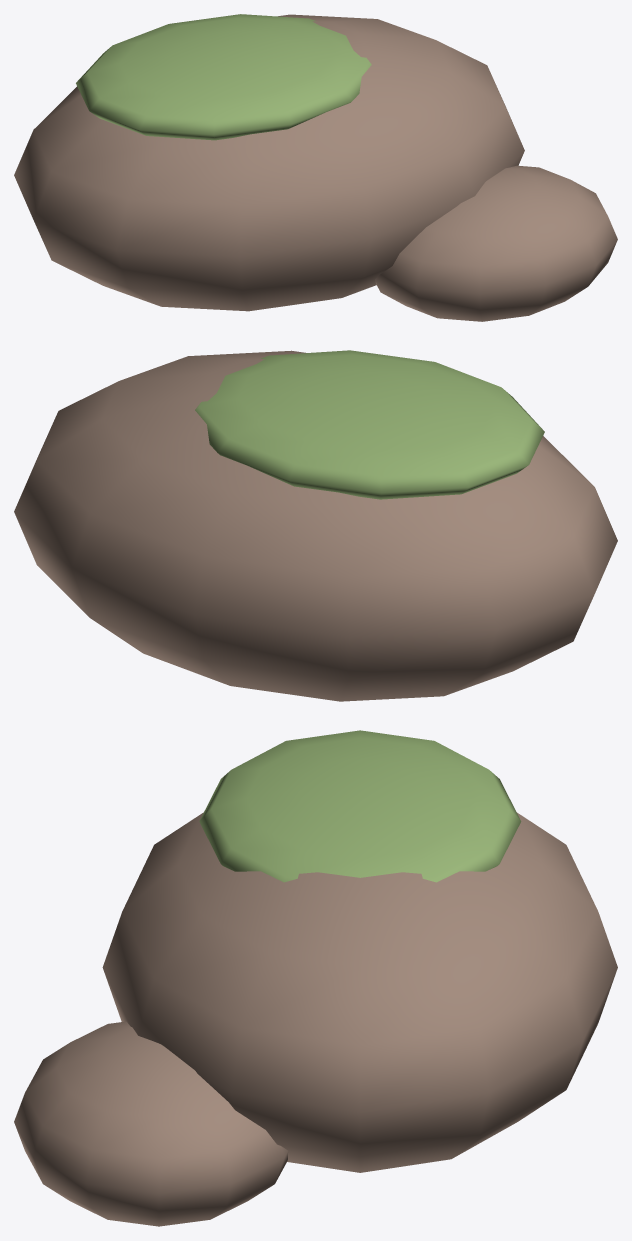
File: lost-valley-dinosaurs-mossy-boulders-ad15e981__1676.glb
3 views of the same model, one above another, from view 1: azimuth 30°, elevation 25°; view 2: azimuth 150°, elevation 25°; view 3: azimuth 270°, elevation 25° (orthographic). The views are drawn at different scales.
Parts seen in each view (by area): view 1: mossy-boulders; view 2: mossy-boulders; view 3: mossy-boulders.
Part boxes in pixels (x1,y1,x2,y2): mossy-boulders: (14, 14, 617, 321); mossy-boulders: (14, 350, 617, 701); mossy-boulders: (14, 730, 617, 1226).
Bounding box in the file's own units: 1.77 × 0.8199 × 1.5.
